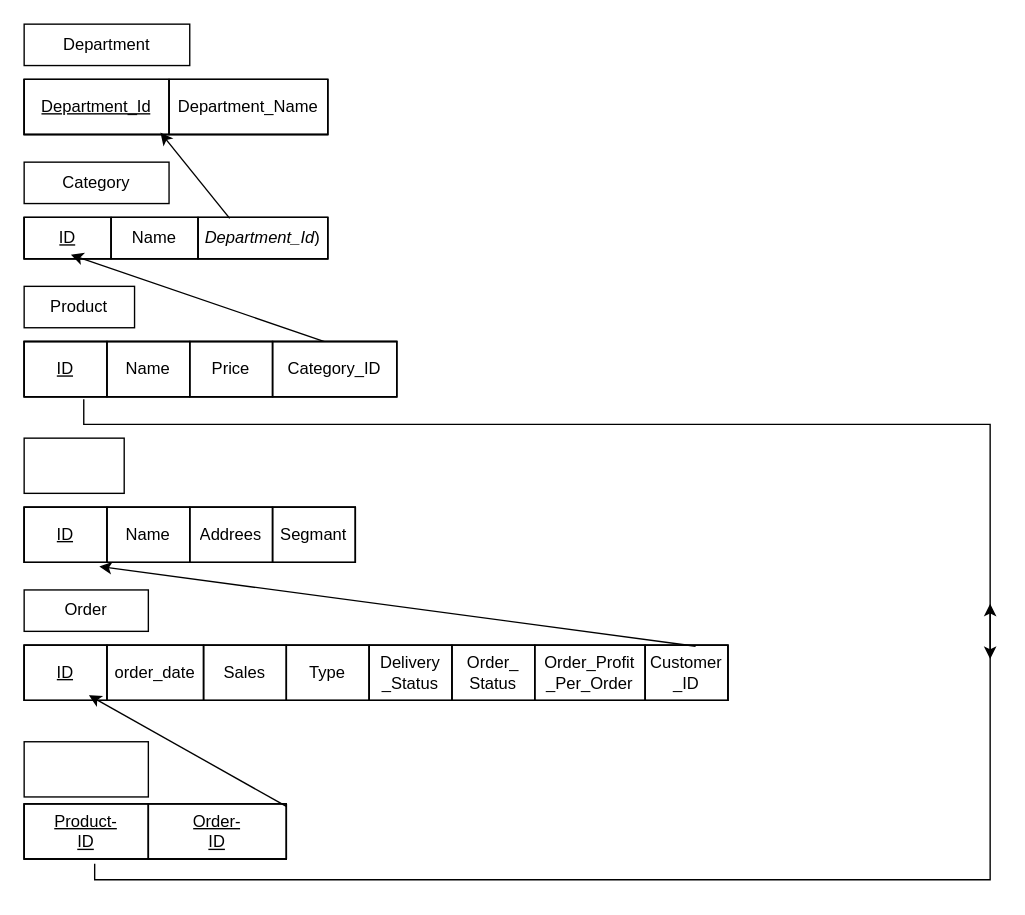
Some shapes in this 1025 by 915 pixel diagram are drawn without their labels. Each missing label, with the centre of its shape:
"Customer" belongs at [73,465].
"Order_Product" belongs at [85,768].
